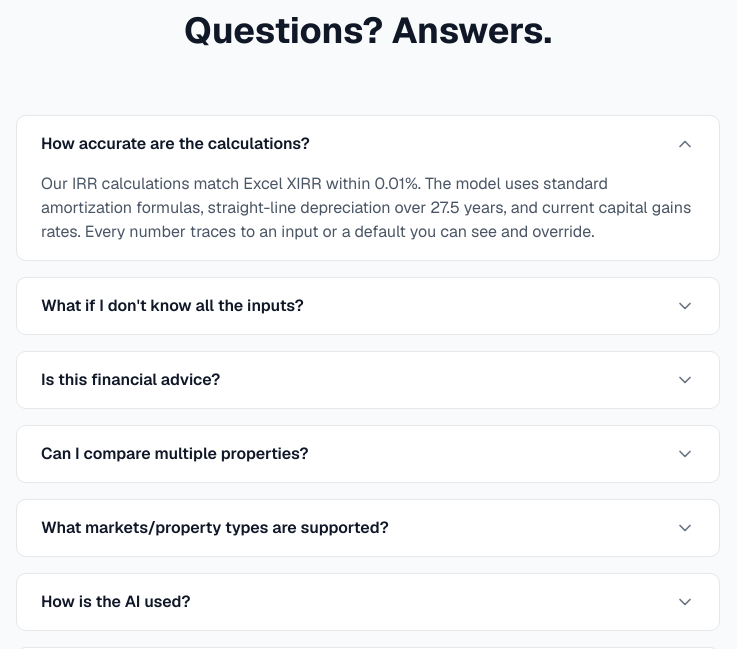
Test: FAQ › toggles answer visibility on click
Click on second question
Step 1. Click the button "What if I don't know all the inputs?" → (172, 306), box left=17, top=278, right=719, bottom=334
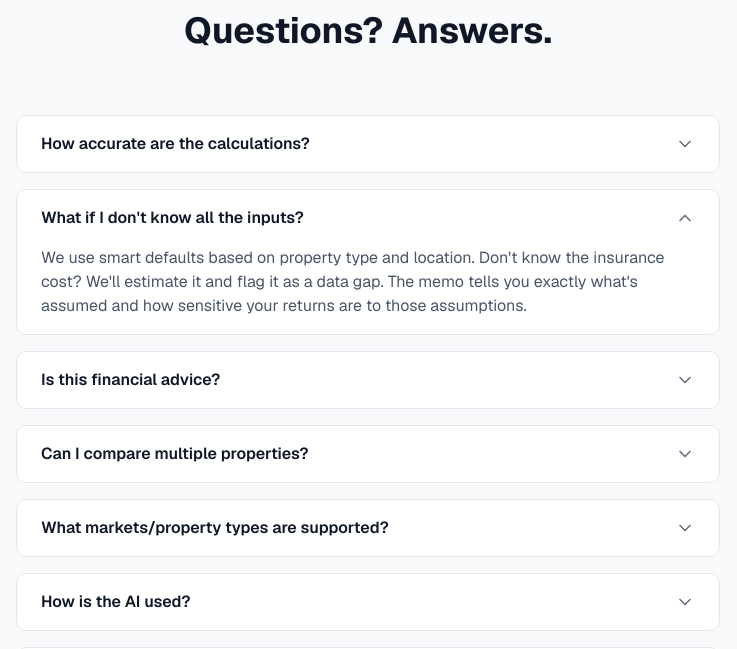
Expected: the text "smart defaults based on property type" is shown, left=41, top=247, right=665, bottom=316
